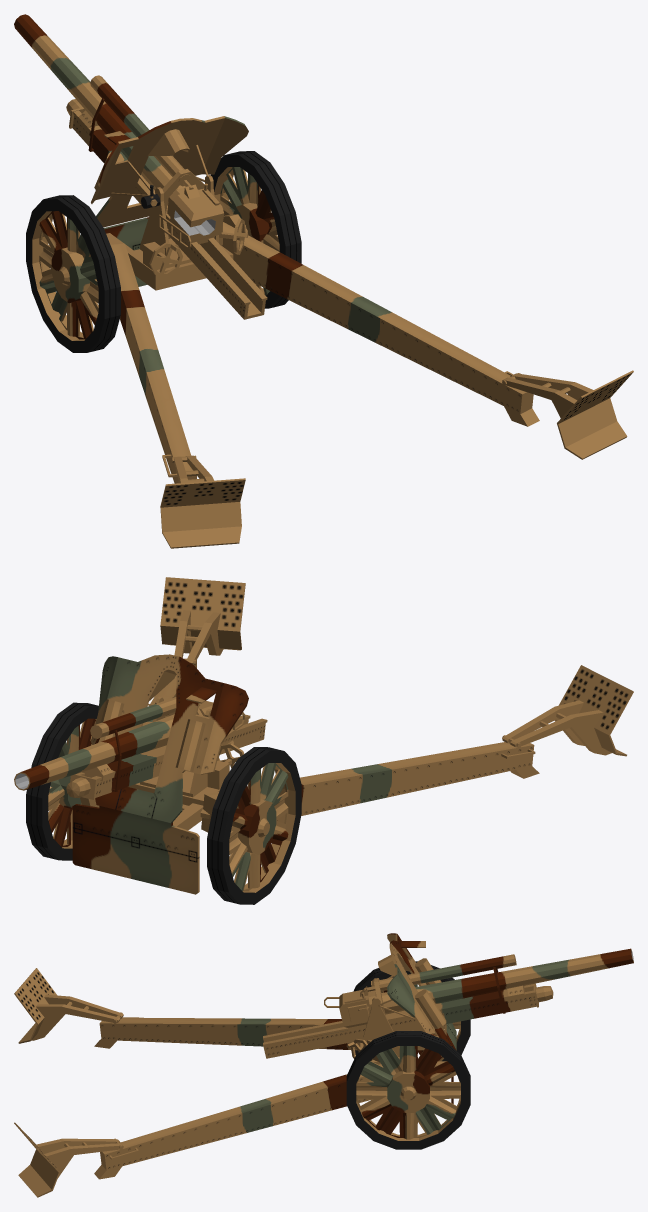
The model's file is lefh18.glb.
3 renders of one model, top to bottom at view 1: azimuth 30°, elevation 25°; view 2: azimuth 150°, elevation 25°; view 3: azimuth 270°, elevation 25°, orthographic. The views are drawn at different scales.
Parts seen in each view (by area): view 1: 00_chassis_lefh18.mesh; view 2: 00_chassis_lefh18.mesh; view 3: 00_chassis_lefh18.mesh.
Boxes of the visible parts, x1=… form: 00_chassis_lefh18.mesh: x1=14, y1=14, x2=633, y2=548; 00_chassis_lefh18.mesh: x1=14, y1=577, x2=633, y2=904; 00_chassis_lefh18.mesh: x1=14, y1=933, x2=633, y2=1197.
Size of the model in its own units: 4.41 by 1.91 by 6.41.
1 material, 1 textured.
